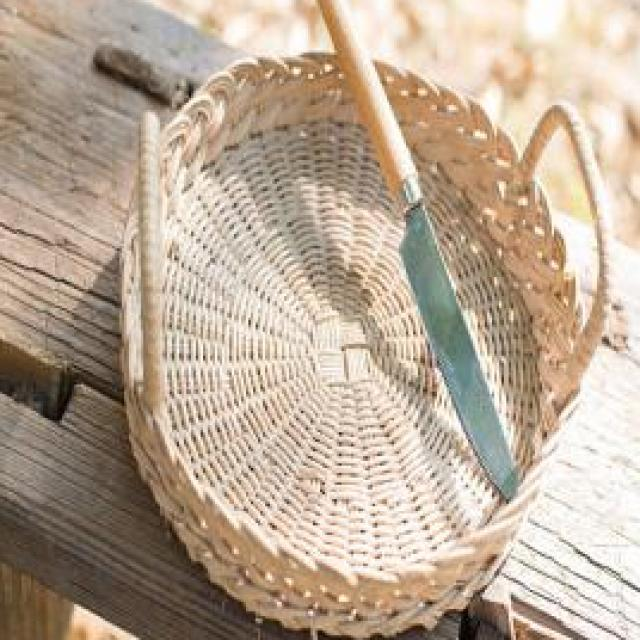knife: (301, 0, 523, 501)
